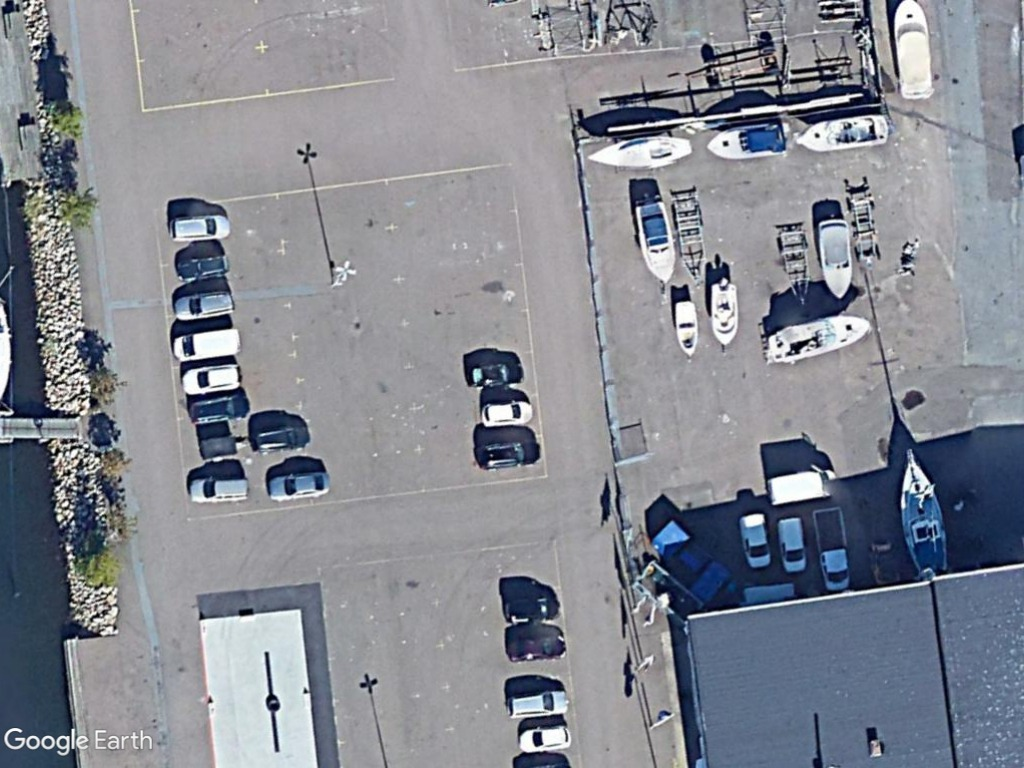boat: (892, 446, 951, 577), (762, 311, 872, 365), (887, 0, 937, 102), (630, 192, 679, 289), (793, 109, 893, 154), (583, 133, 694, 173), (702, 115, 788, 165), (815, 214, 856, 302), (703, 280, 741, 350), (667, 297, 701, 359)
car: (184, 388, 252, 429), (261, 467, 333, 505), (171, 284, 236, 325), (470, 437, 542, 474), (178, 360, 244, 398), (185, 471, 252, 508), (165, 211, 234, 246), (502, 686, 569, 722), (171, 249, 231, 288), (247, 421, 312, 457), (462, 359, 528, 393), (503, 631, 569, 665), (514, 722, 573, 759), (476, 396, 535, 430)
van: (170, 322, 243, 367), (734, 507, 774, 572), (774, 514, 809, 577)
